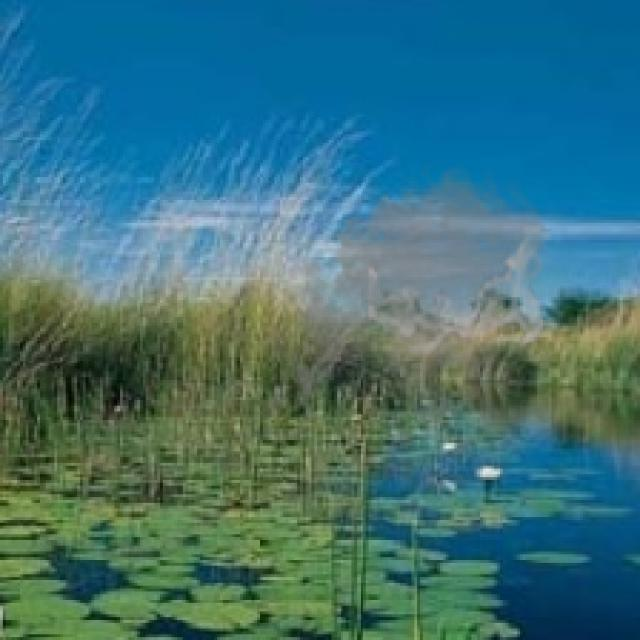Smoke: (282, 154, 554, 429)
